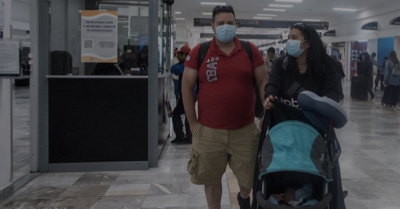with_mask: (284, 33, 305, 59), (214, 19, 235, 43)
